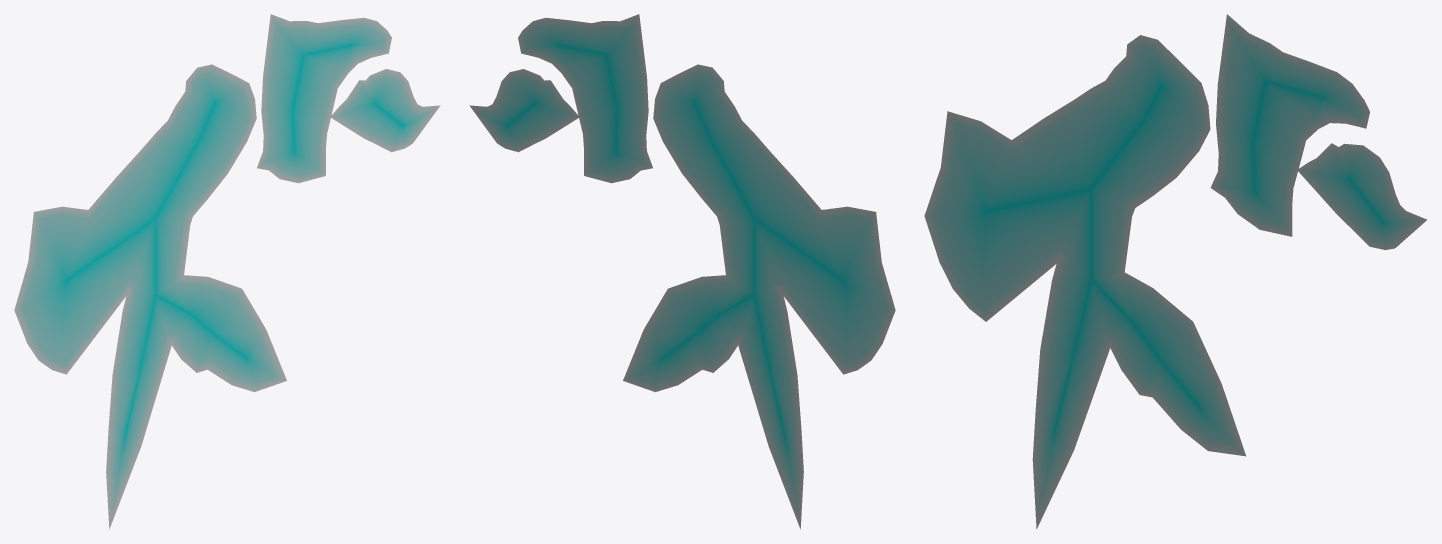
The model's file is SM_EFF_Text_SandShield_01.glb.
3 views of the same model, side by side, from view 1: azimuth 30°, elevation 25°; view 2: azimuth 150°, elevation 25°; view 3: azimuth 330°, elevation 25° (orthographic). The views are drawn at different scales.
Parts seen in each view (by area): view 1: SM_EFF_Text_SandShield_01; view 2: SM_EFF_Text_SandShield_01; view 3: SM_EFF_Text_SandShield_01.
Part boxes in pixels (x1,y1,x2,y2): SM_EFF_Text_SandShield_01: (14, 14, 440, 529); SM_EFF_Text_SandShield_01: (469, 14, 895, 529); SM_EFF_Text_SandShield_01: (924, 14, 1427, 529).
Size of the model in its own units: 0.9259 by 0.9891 by 6.06e-17.
